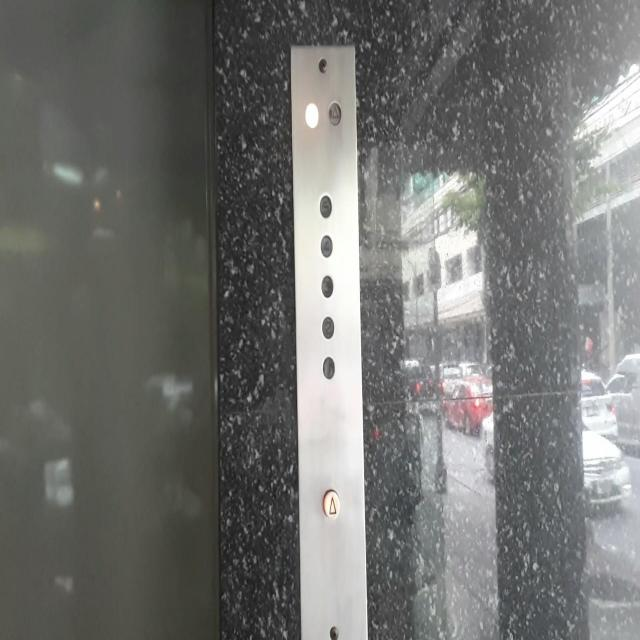1: (320, 354, 336, 382)
2: (320, 313, 336, 341)
3: (320, 272, 334, 300)
4: (318, 232, 334, 260)
5: (318, 192, 333, 220)
empty: (303, 99, 320, 130)
up: (320, 486, 343, 524), (326, 99, 343, 130)
